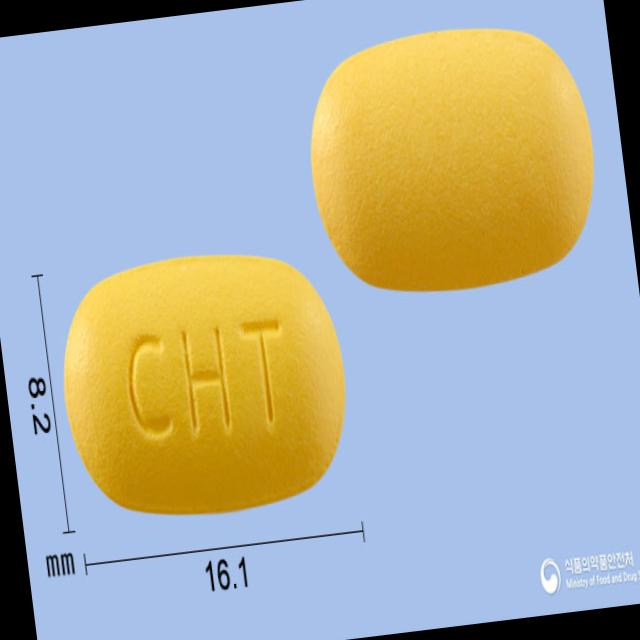Croracin: (50, 238, 360, 528)
